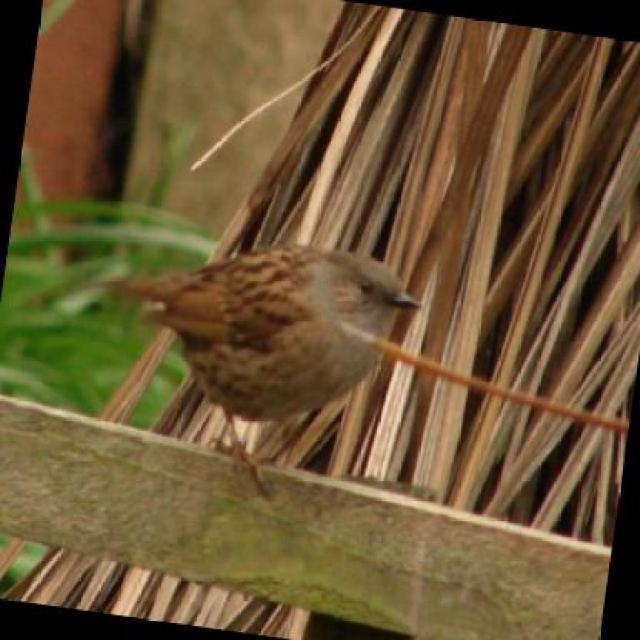Bird: (103, 238, 426, 494)
